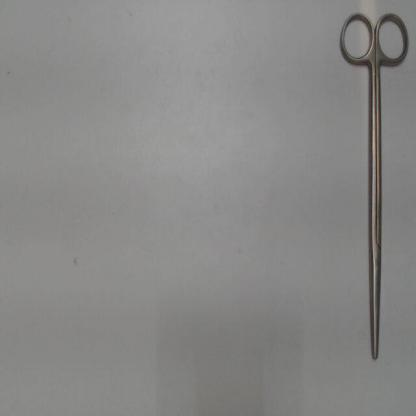9 Metzenbaum Scissors: (336, 7, 412, 366)
